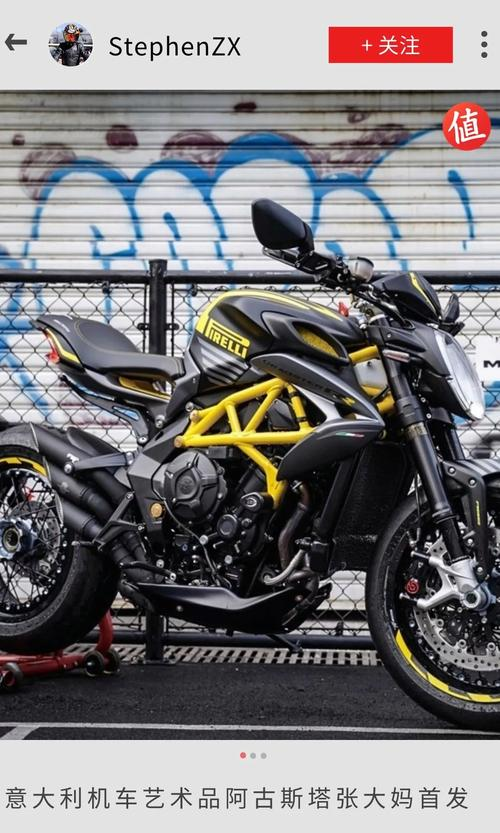摩托车: (6, 201, 500, 724)
